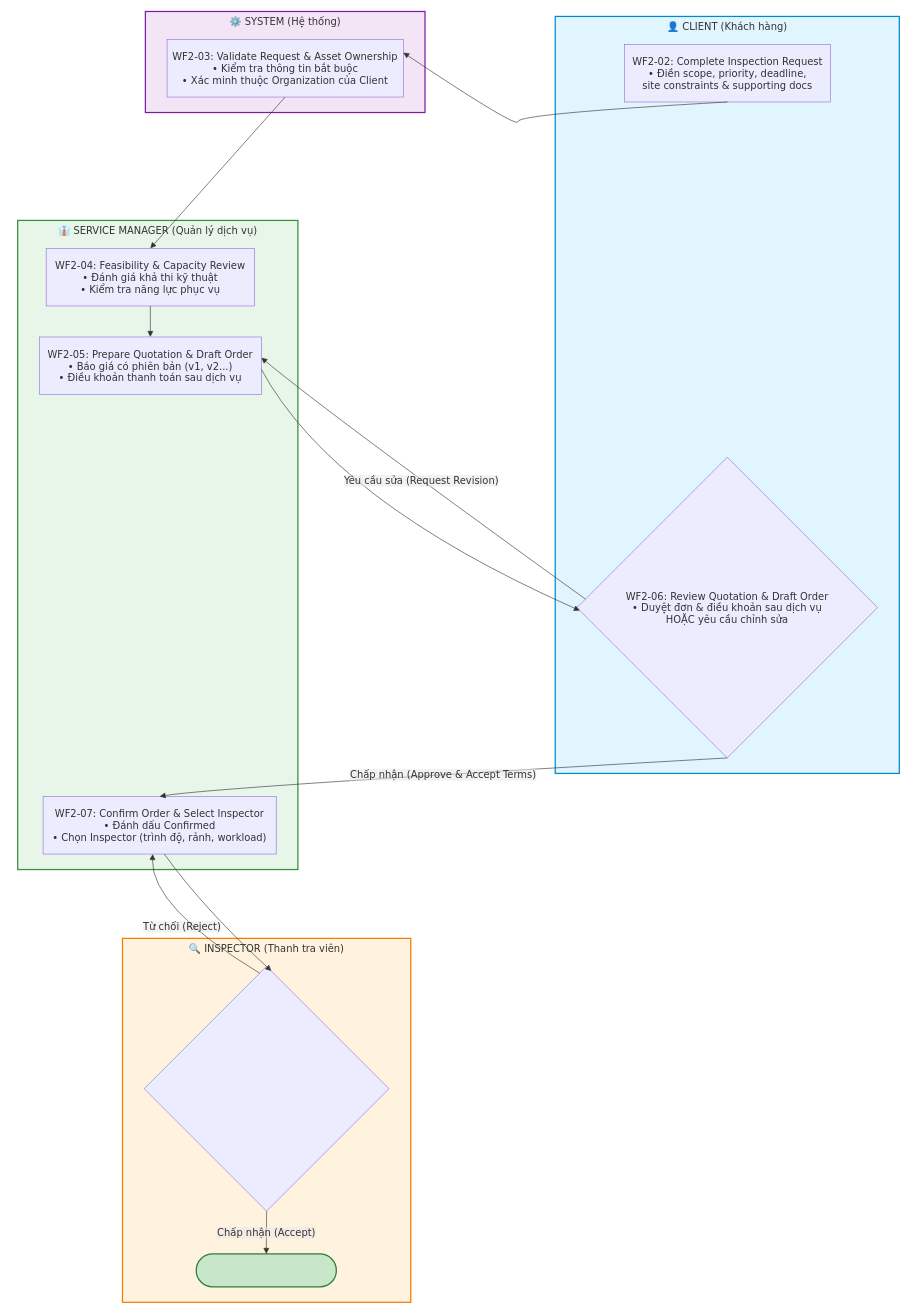
Some shapes in this 910 by 1313 pixel diagram are drawn without their labels. Each missing label, with the centre of its shape:
Phản hồi Phân công (Assignment): point (266, 1088)
READY_FOR_INSPECTION (Sẵn sàng chuyển sang WF3): point (266, 1270)
